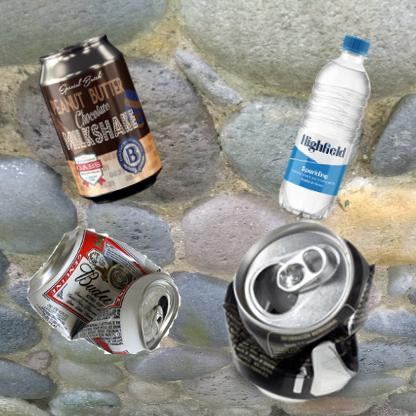botella: (213, 10, 416, 262)
lata: (10, 10, 216, 269), (213, 213, 386, 416), (10, 213, 203, 354)
